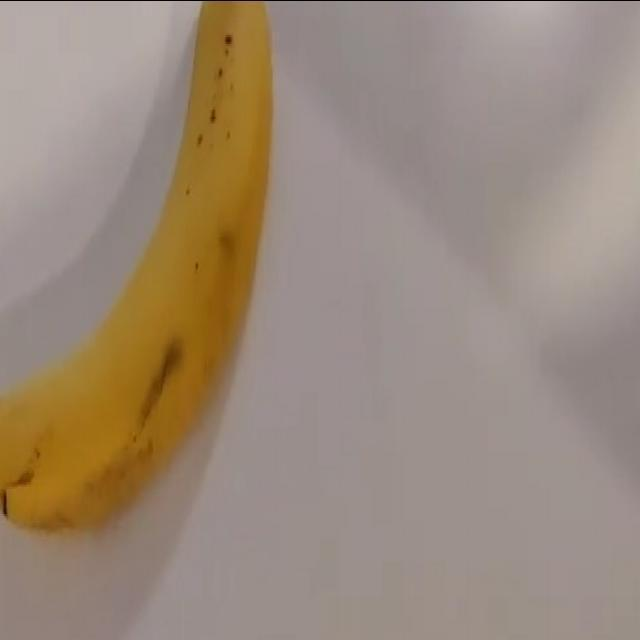Banana: (0, 0, 274, 535)
